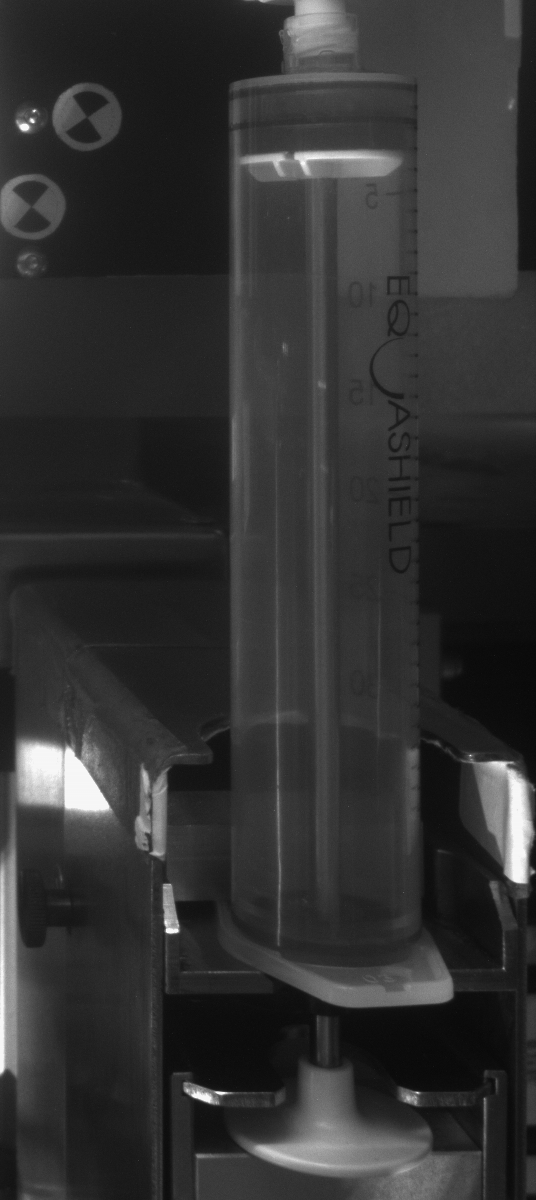piston: (226, 100, 420, 184)
